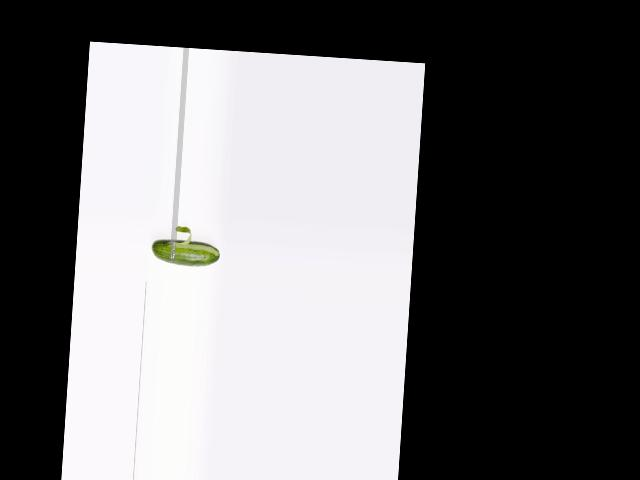cucumber: (150, 237, 220, 267)
